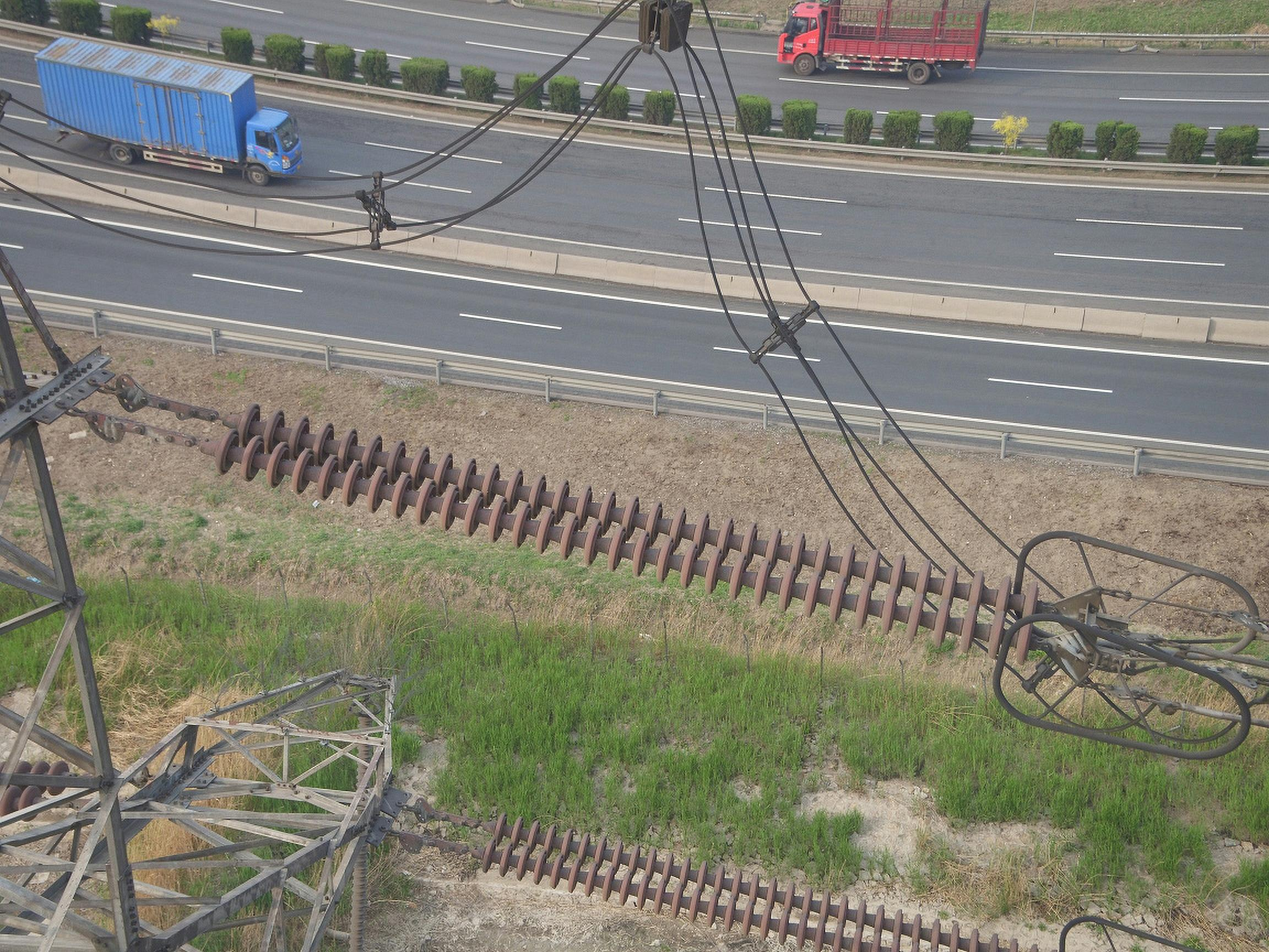insulator: (209, 398, 1045, 668), (474, 806, 1046, 952), (347, 715, 375, 952), (1, 756, 74, 826)
